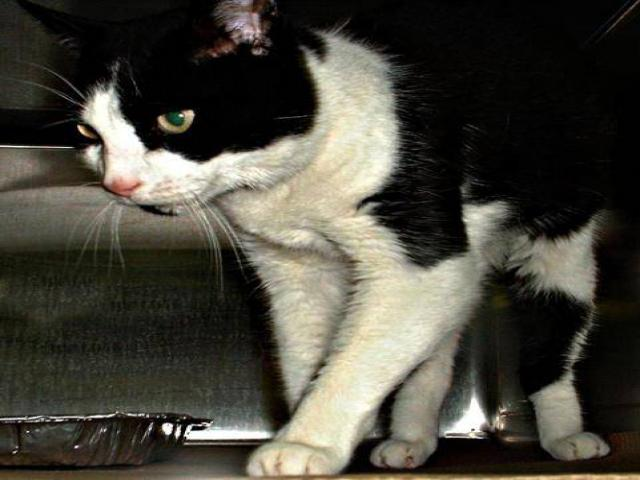cat: (40, 4, 592, 474)
